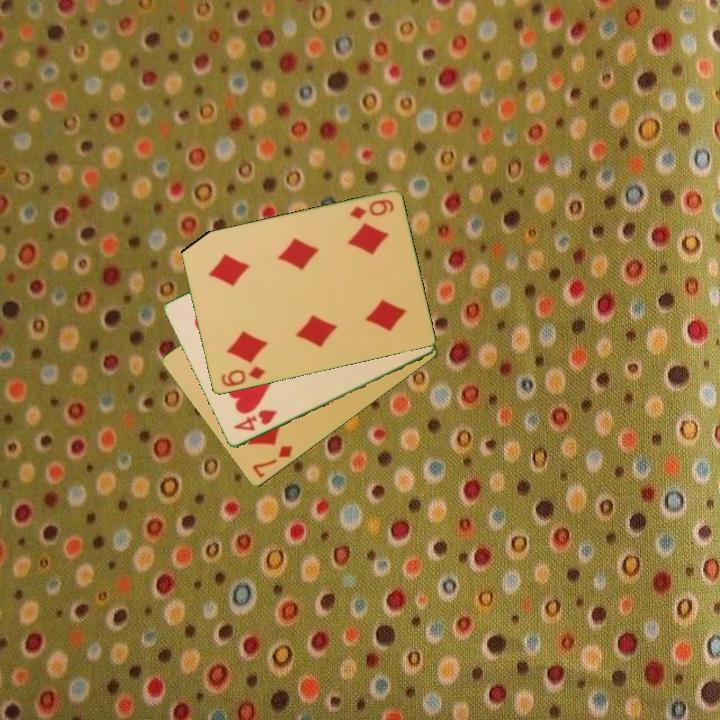4h: (230, 406, 280, 434)
6d: (217, 363, 268, 390), (346, 196, 397, 223)
7d: (249, 442, 296, 481)
